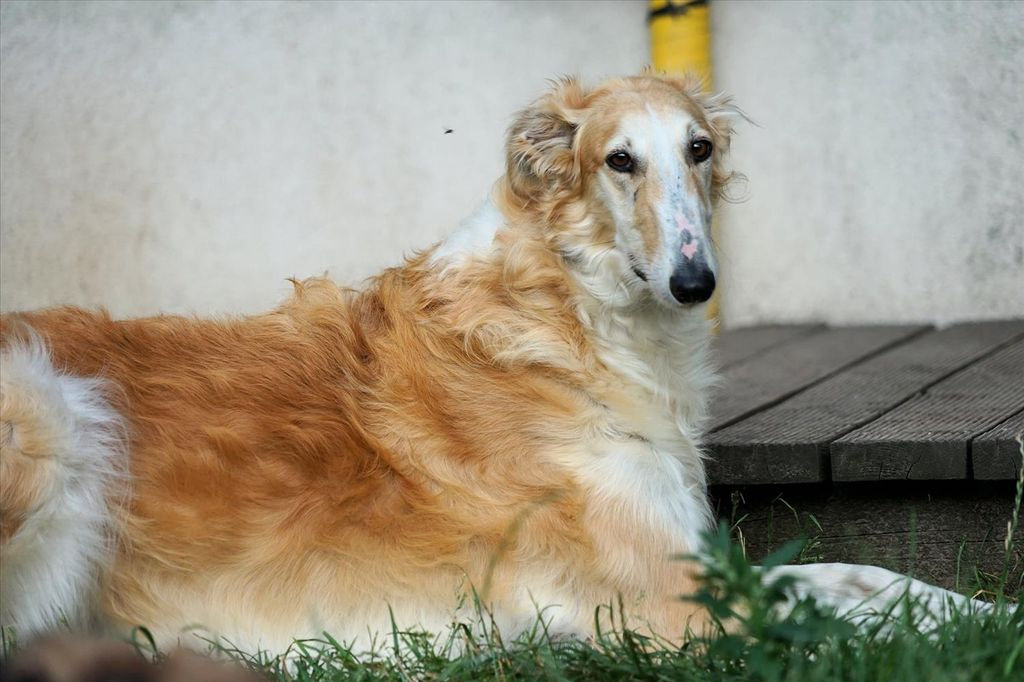borzoi: (0, 71, 799, 652)
